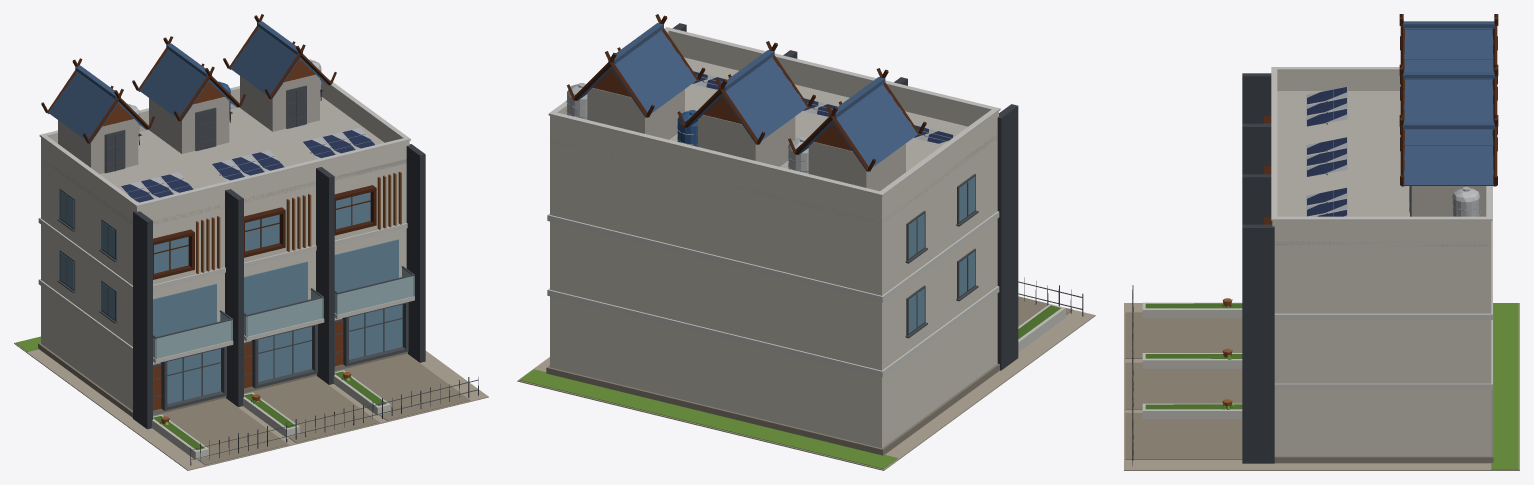
The model's file is home_3.glb.
3 views of the same model, side by side, from view 1: azimuth 30°, elevation 25°; view 2: azimuth 150°, elevation 25°; view 3: azimuth 270°, elevation 25° (orthographic). The views are drawn at different scales.
Visible parts, largest first — view 1: body; view 2: body; view 3: body.
Boxes of the visible parts, x1,y1,x2,y2 form: body: (14,14,488,470); body: (517,14,1095,470); body: (1124,14,1519,470).
Size of the model in its own units: 15.9 by 14.1 by 15.9.
